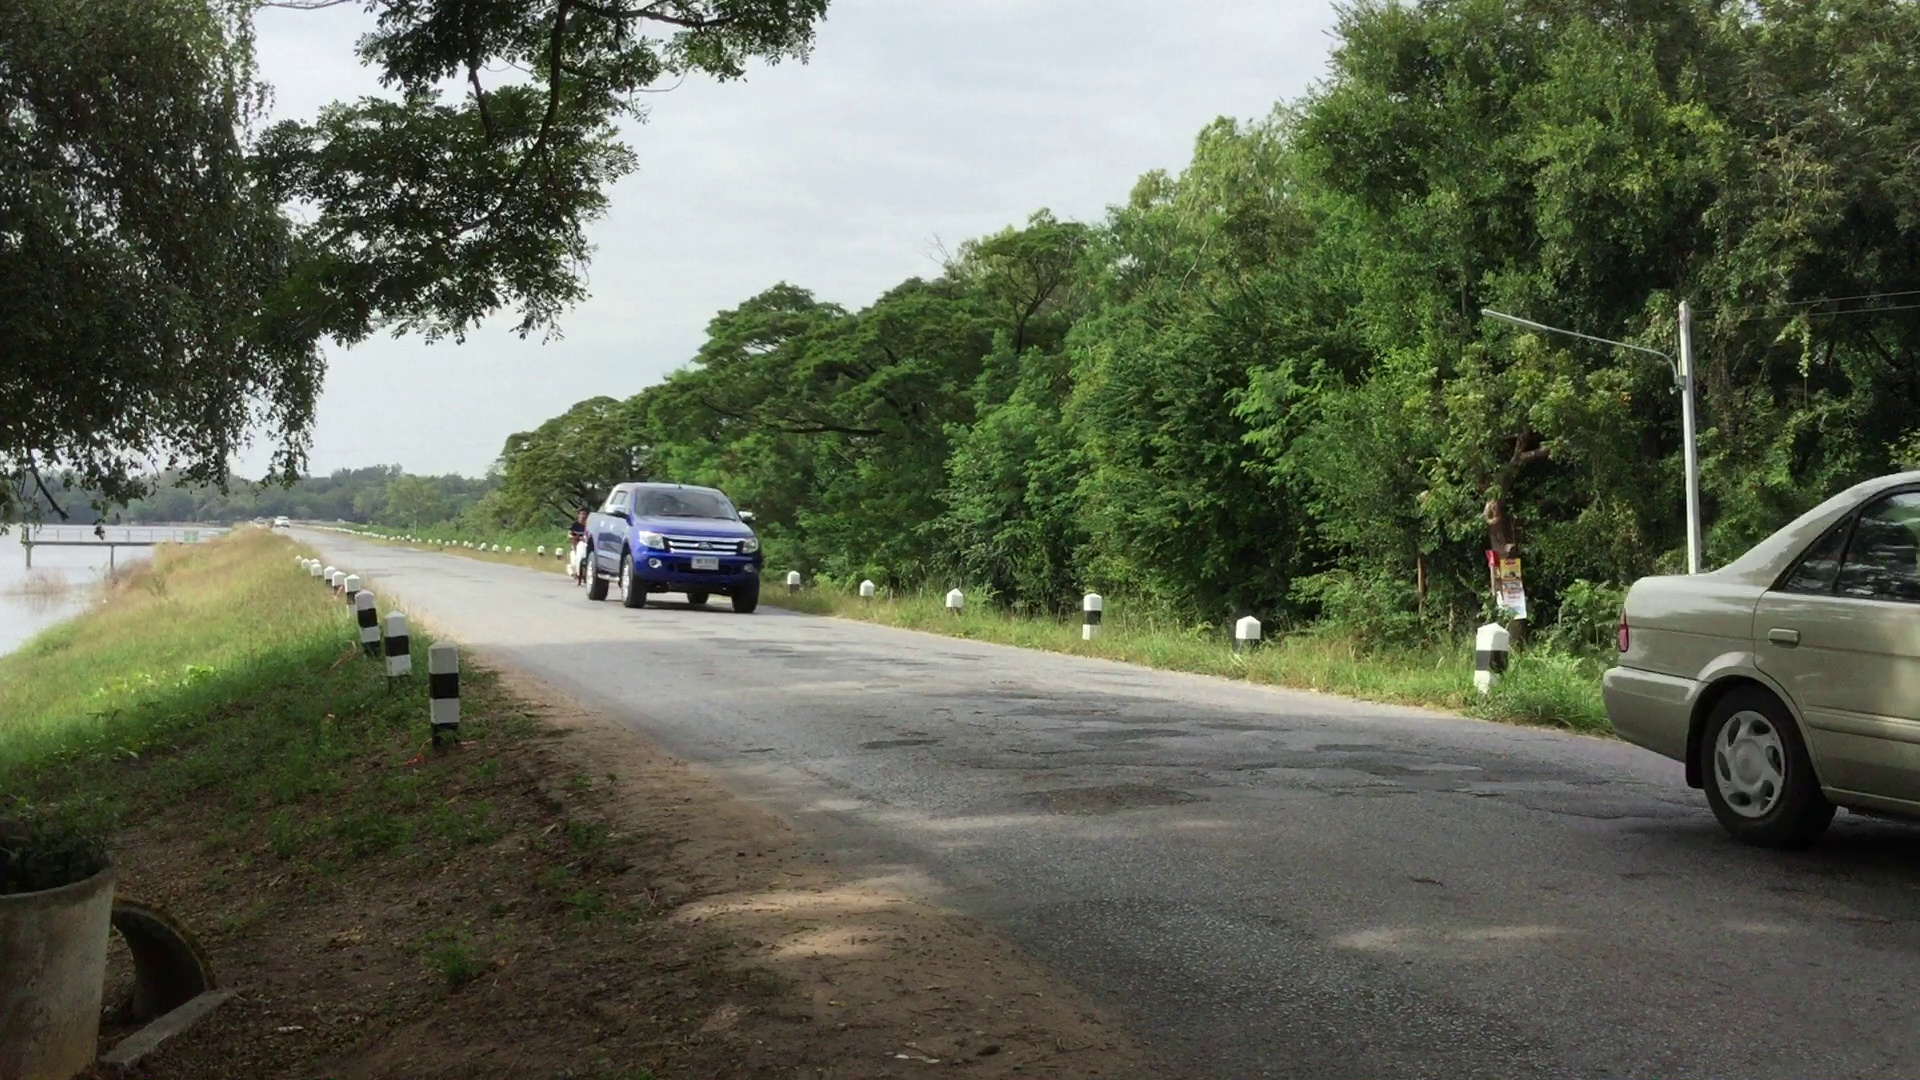car: (1611, 470, 1920, 851), (586, 477, 762, 613)
person: (564, 510, 588, 583)
